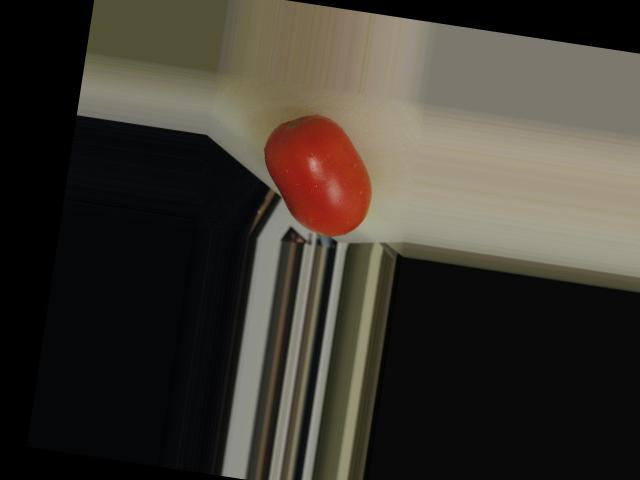tomato: (253, 108, 382, 241)
